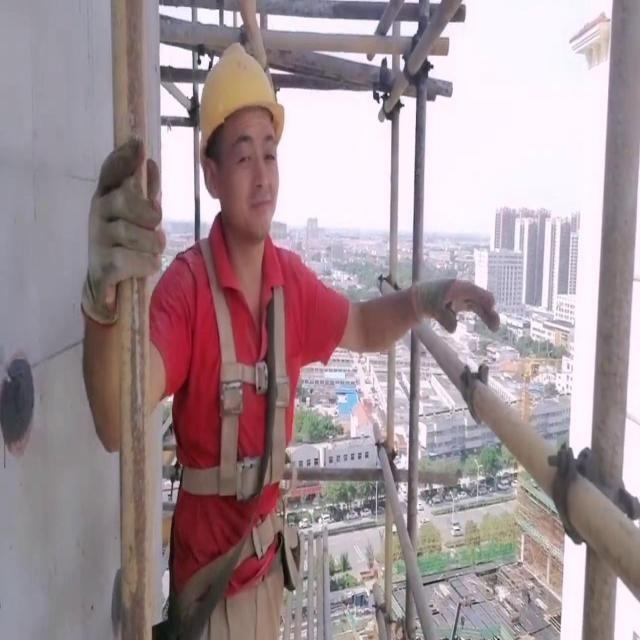Arnes_seguridad: (172, 222, 304, 504)
